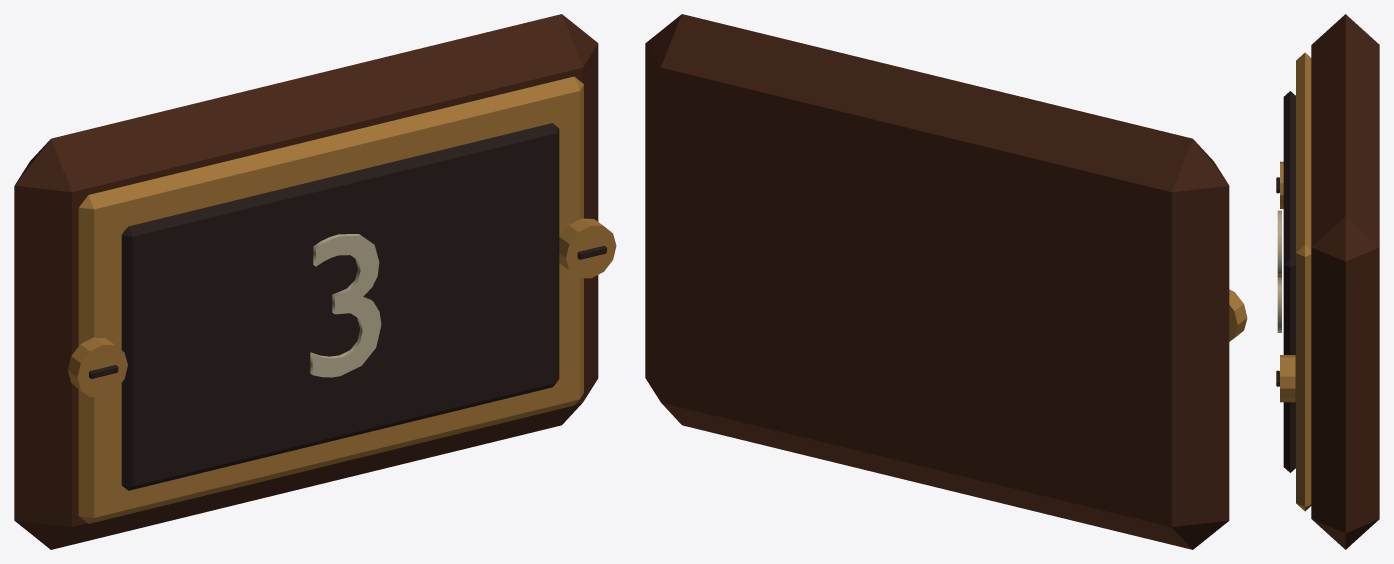
File: RoomPlaque_03.glb
3 renders of one model, left to right at view 1: azimuth 30°, elevation 25°; view 2: azimuth 150°, elevation 25°; view 3: azimuth 270°, elevation 25°, orthographic. The views are drawn at different scales.
Visible parts, largest first — view 1: DarkEnamel.002, OakPlaque.002, BrassInset.002, RoomNumber.002, BrassScrew.006, BrassScrew.007; view 2: OakPlaque.002; view 3: OakPlaque.002, BrassInset.002, DarkEnamel.002, BrassScrew.007, RoomNumber.002, BrassScrew.006.
Part boxes in pixels (<box>): DarkEnamel.002: <box>121,123,559,490</box>; OakPlaque.002: <box>14,14,598,549</box>; BrassInset.002: <box>78,76,583,523</box>; RoomNumber.002: <box>310,234,381,377</box>; BrassScrew.006: <box>67,337,127,397</box>; BrassScrew.007: <box>559,218,616,278</box>; OakPlaque.002: <box>645,14,1229,549</box>; OakPlaque.002: <box>1311,14,1379,549</box>; BrassInset.002: <box>1296,52,1311,511</box>; DarkEnamel.002: <box>1283,91,1295,472</box>; BrassScrew.007: <box>1280,355,1295,402</box>; RoomNumber.002: <box>1277,210,1281,332</box>; BrassScrew.006: <box>1280,161,1283,208</box>.
Size of the model in its own units: 1.04 by 0.7 by 0.197.
